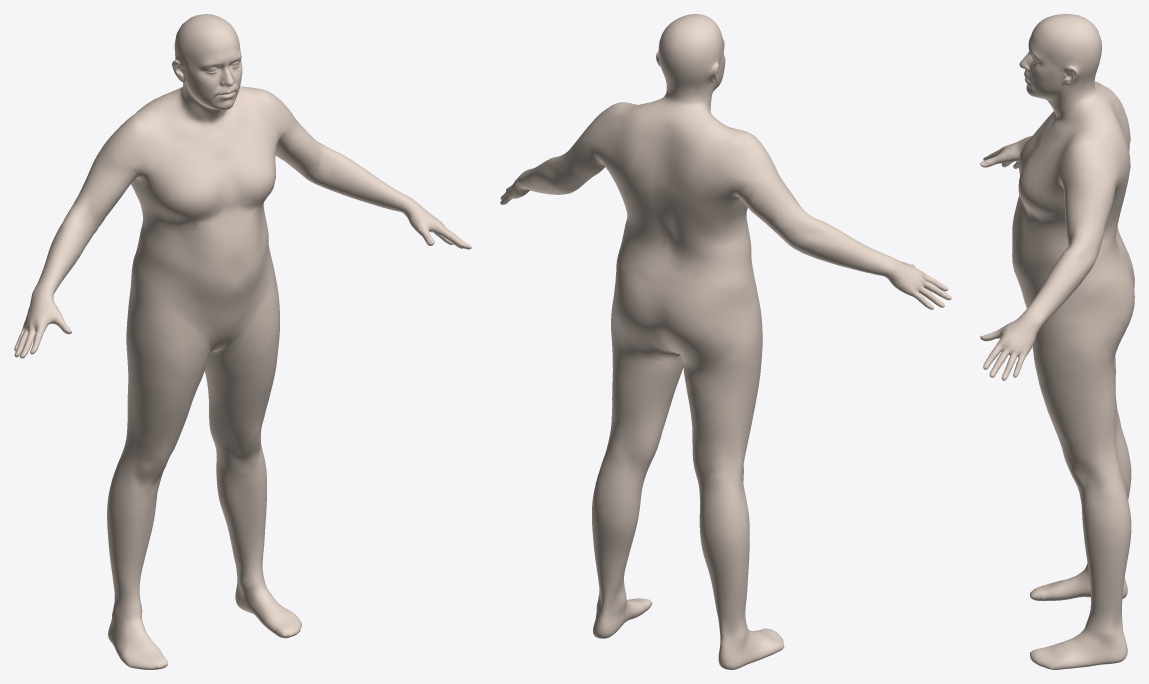
File: mhr-neutral.glb
3 renders of one model, left to right at view 1: azimuth 30°, elevation 25°; view 2: azimuth 150°, elevation 25°; view 3: azimuth 270°, elevation 25°, orthographic.
Parts seen in each view (by area): view 1: mhr-neutral; view 2: mhr-neutral; view 3: mhr-neutral.
Boxes of the visible parts, x1=… form: mhr-neutral: x1=14, y1=14, x2=471, y2=669; mhr-neutral: x1=500, y1=14, x2=951, y2=669; mhr-neutral: x1=980, y1=14, x2=1134, y2=669.
Size of the model in its own units: 1.32 by 1.75 by 0.4004.
